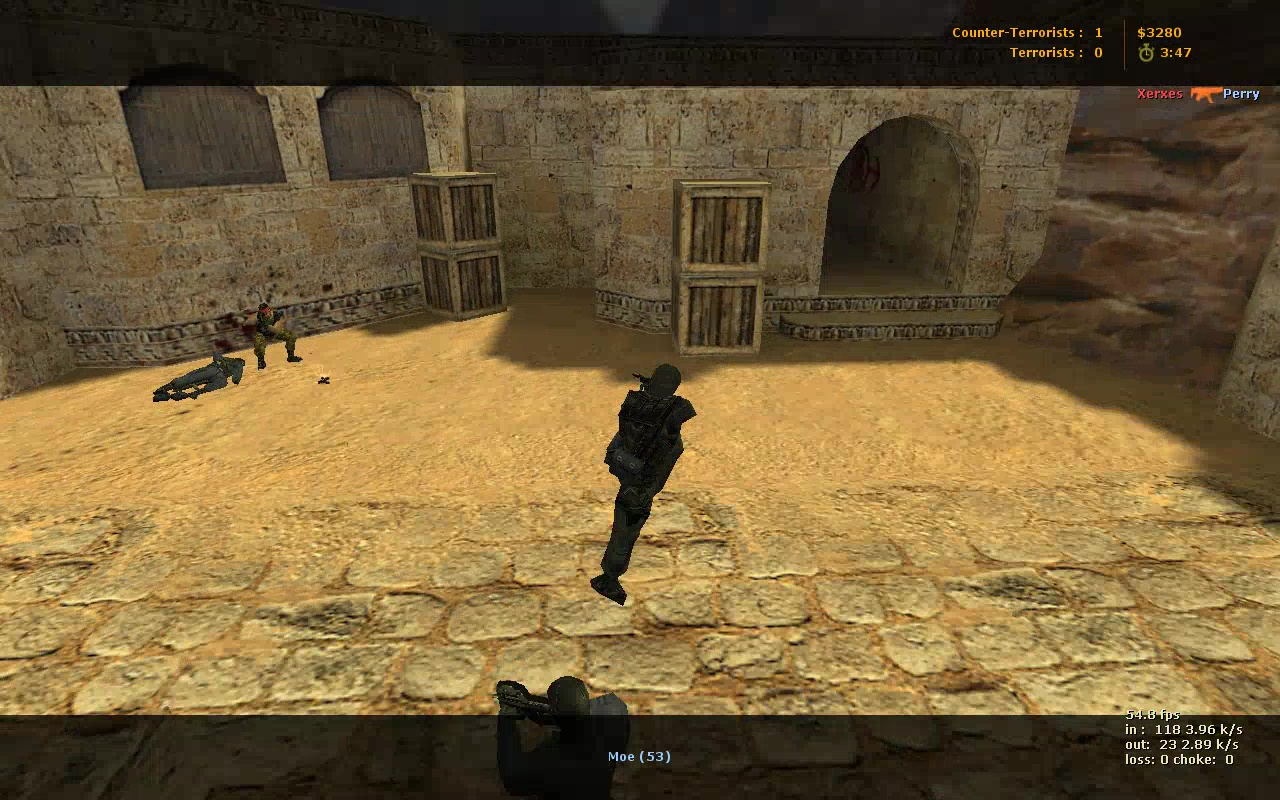ct: (585, 363, 700, 610)
dead: (153, 355, 245, 400)
terr1: (244, 305, 306, 366)
